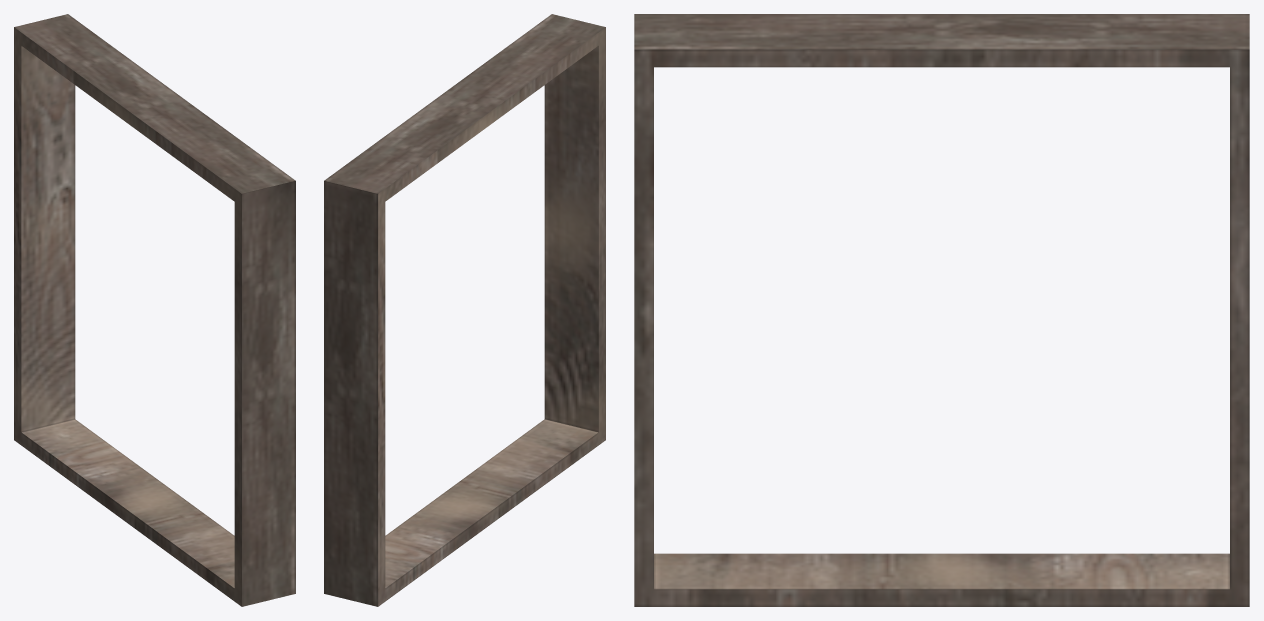
The picture shows the model from 3 angles, left to right: view 1: azimuth 30°, elevation 25°; view 2: azimuth 150°, elevation 25°; view 3: azimuth 270°, elevation 25°; orthographic projection. The views are drawn at different scales.
Parts seen in each view (by area): view 1: Object_20; view 2: Object_20; view 3: Object_20.
Part boxes in pixels (<box>): Object_20: <box>14,14,295,606</box>; Object_20: <box>324,14,605,606</box>; Object_20: <box>634,14,1249,606</box>.
Bounding box in the file's own units: 0.1763 × 1.29 × 1.29.
Materials: 1 (1 with a texture image).
